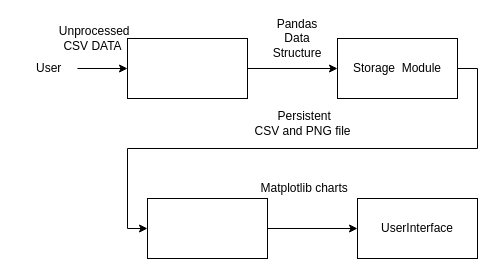
This 503x276 diagram has some shape labels left out. The shapes that lost their labels are listed below. From the top down, each one's box as (x1, y1, x2, y2) in pixels, then its label:
(126, 38, 248, 98): Processing Module
(146, 198, 268, 258): Visualization Module
